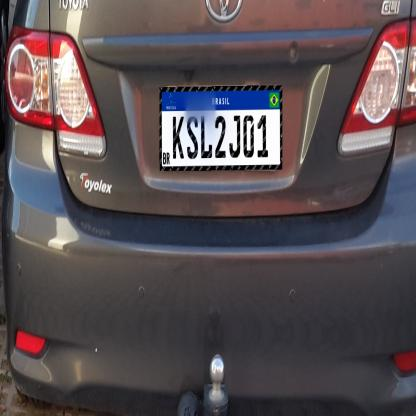PlacaM: (160, 85, 282, 171)
